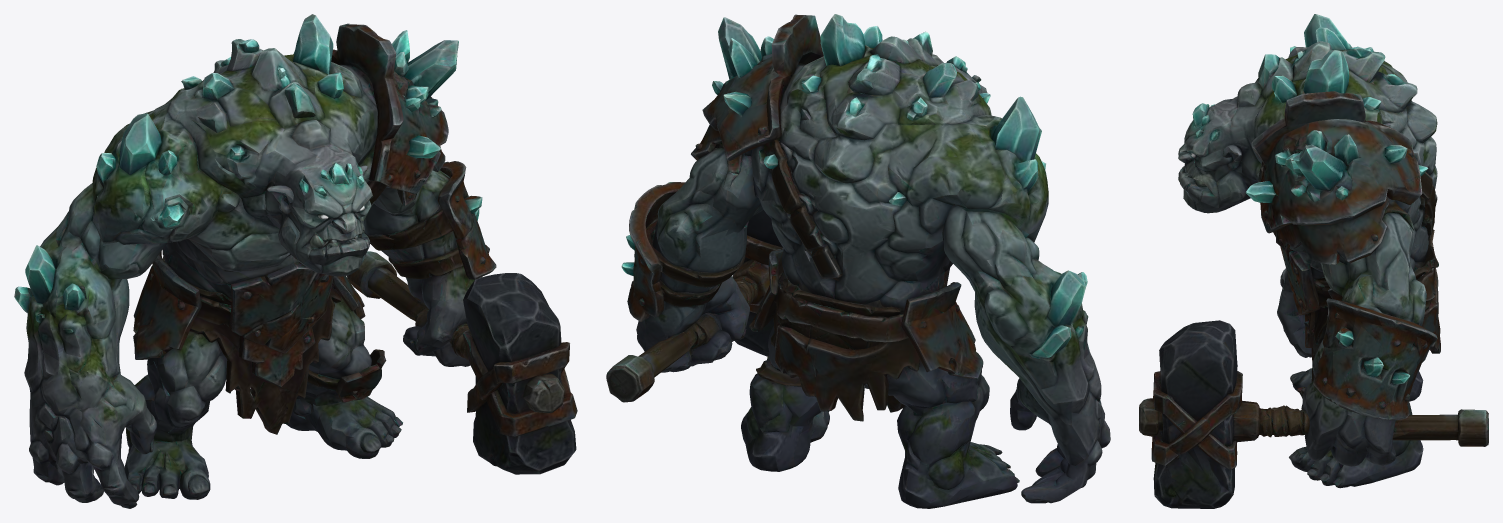
Rendered from cave_brute.glb.
3 renders of one model, left to right at view 1: azimuth 30°, elevation 25°; view 2: azimuth 150°, elevation 25°; view 3: azimuth 270°, elevation 25°, orthographic. The views are drawn at different scales.
Parts seen in each view (by area): view 1: Mesh_0; view 2: Mesh_0; view 3: Mesh_0.
Boxes of the visible parts, <box> form: Mesh_0: <box>14,14,577,508</box>; Mesh_0: <box>606,14,1110,508</box>; Mesh_0: <box>1139,14,1488,508</box>.
Size of the model in its own units: 1.9 by 1.71 by 1.35.
Materials: 1 (1 with a texture image).
